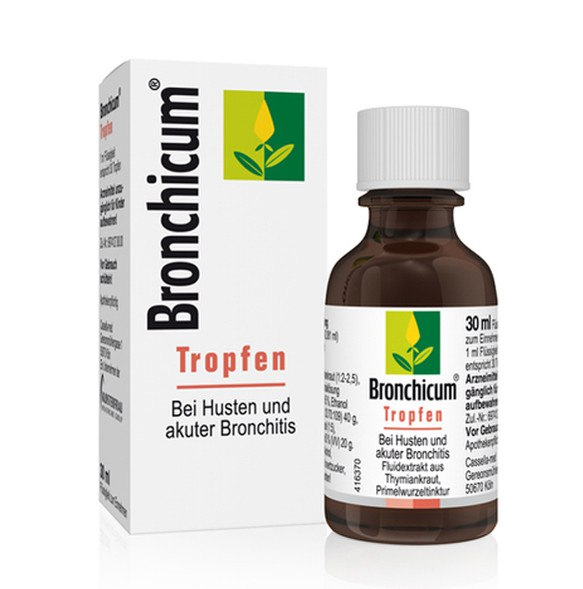Medicine: (92, 53, 328, 535), (320, 93, 522, 552)
